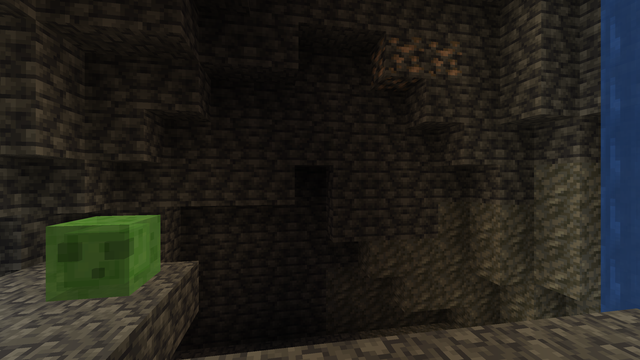slimes: (42, 212, 161, 302)
